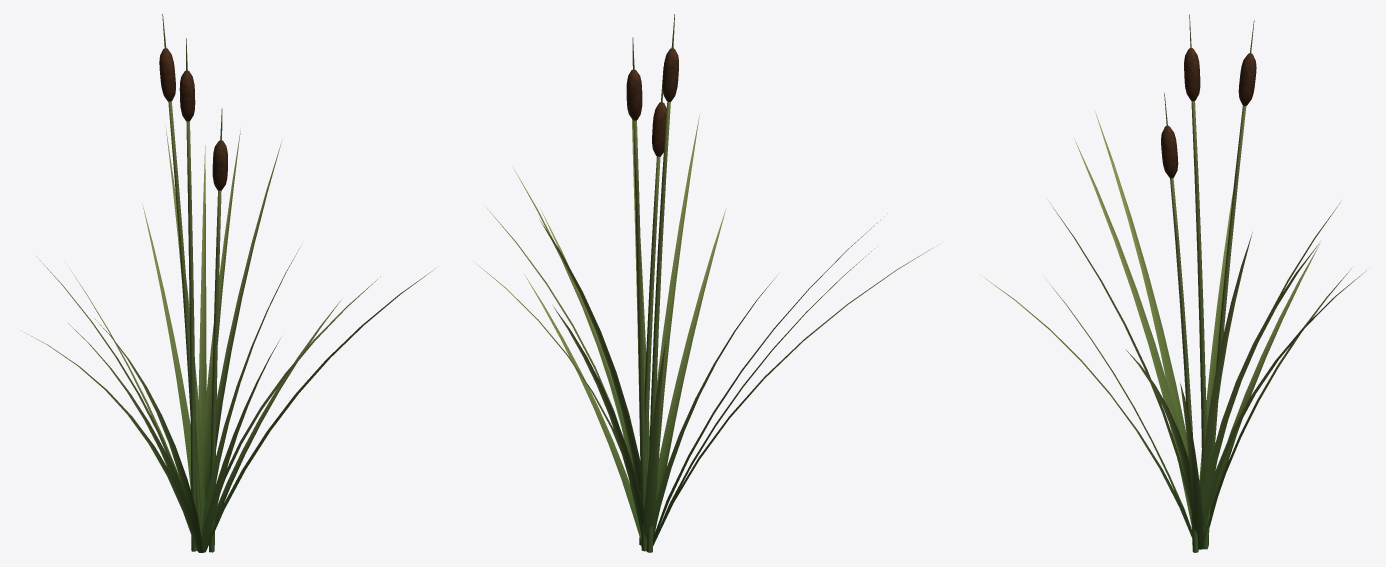
File: cattail.glb
3 renders of one model, left to right at view 1: azimuth 30°, elevation 25°; view 2: azimuth 150°, elevation 25°; view 3: azimuth 270°, elevation 25°, orthographic. The views are drawn at different scales.
Parts seen in each view (by area): view 1: cattail; view 2: cattail; view 3: cattail.
Boxes of the visible parts, left/top/right/bottom form: cattail: left=20, top=14, right=435, bottom=552; cattail: left=474, top=14, right=937, bottom=552; cattail: left=985, top=14, right=1366, bottom=552.
Bounding box in the file's own units: 1.41 × 1.83 × 1.25.
1 material, 1 textured.
